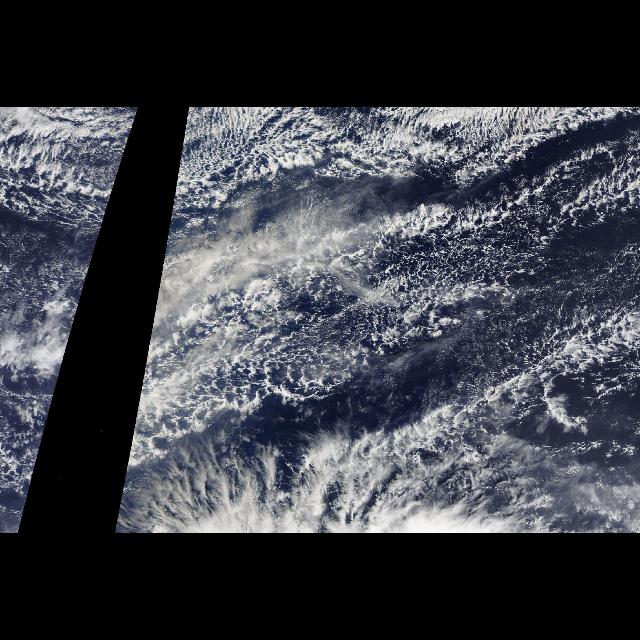Fish: (297, 333, 639, 477)
Gravel: (268, 160, 640, 432)
